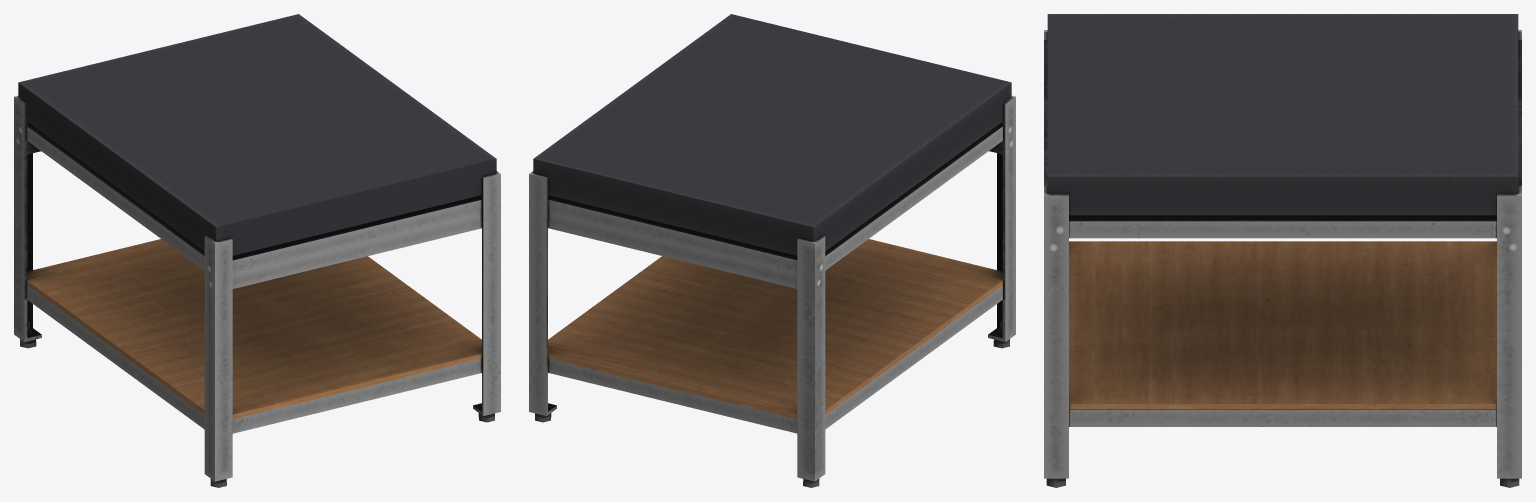
File: Mesa general.FBX
3 views of the same model, side by side, from view 1: azimuth 30°, elevation 25°; view 2: azimuth 150°, elevation 25°; view 3: azimuth 270°, elevation 25° (orthographic). The views are drawn at different scales.
Visible parts, largest first — view 1: Tabla_mesa, Tabla_inferior, Patas, Tubos_001, Tubos_002; view 2: Tabla_mesa, Tabla_inferior, Patas, Tubos_001, Tubos_002; view 3: Tabla_mesa, Tabla_inferior, Tubos_001, Patas.
Boxes of the visible parts, box(x1,y1,x2,y2) form: Tabla_mesa: box(18, 14, 496, 255); Tabla_inferior: box(27, 239, 481, 419); Patas: box(14, 95, 500, 481); Tubos_001: box(27, 122, 481, 433); Tubos_002: box(27, 141, 481, 288); Tabla_mesa: box(533, 14, 1011, 255); Tabla_inferior: box(548, 239, 1002, 419); Patas: box(529, 95, 1015, 481); Tubos_001: box(548, 122, 1002, 433); Tubos_002: box(548, 141, 1002, 288); Tabla_mesa: box(1047, 14, 1518, 215); Tabla_inferior: box(1069, 241, 1496, 409); Tubos_001: box(1069, 215, 1496, 426); Patas: box(1044, 30, 1521, 478).
Bounding box in the file's own units: 0.917 × 0.8 × 1.12.
1 material, 1 textured.
